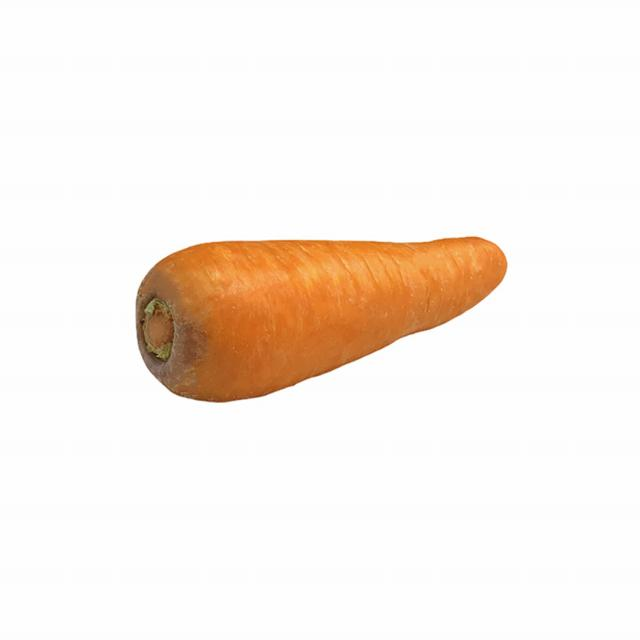Carrot: (130, 234, 514, 405)
